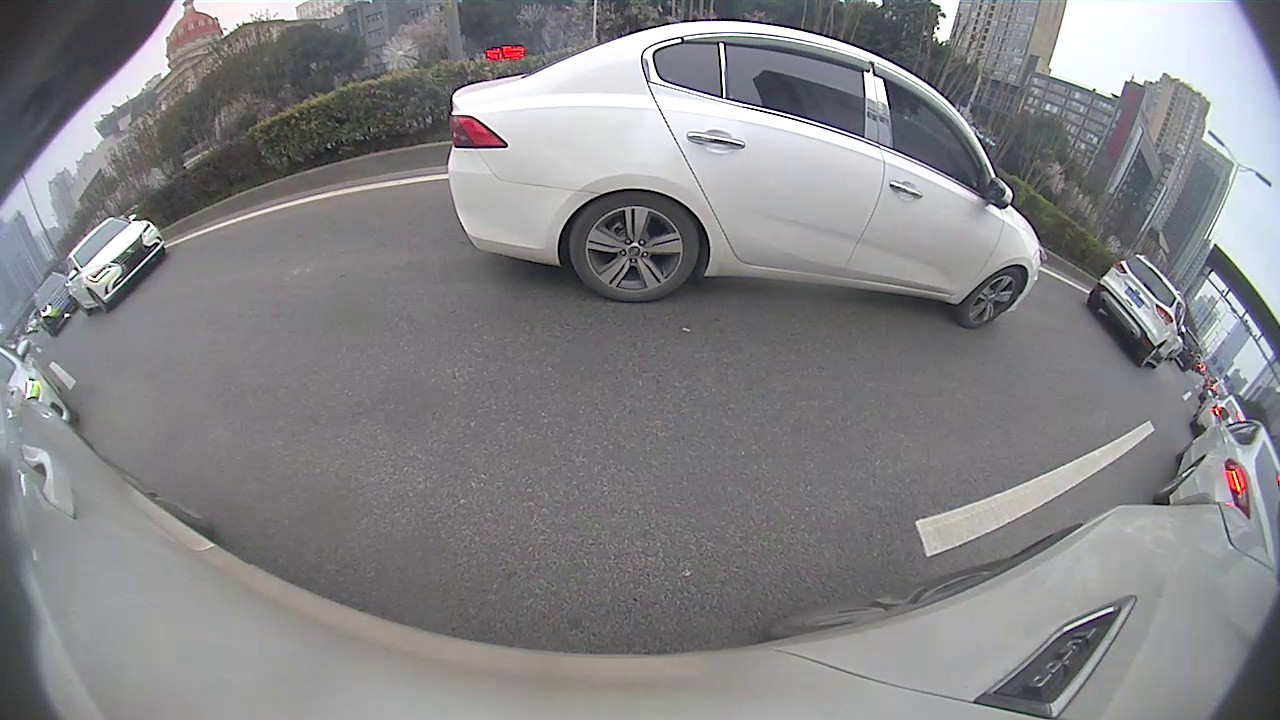car: (446, 17, 1047, 331), (1152, 404, 1279, 553), (1086, 252, 1188, 373), (63, 213, 169, 317)
front: (957, 267, 1025, 333), (91, 287, 109, 315)
rear: (567, 187, 701, 303)
